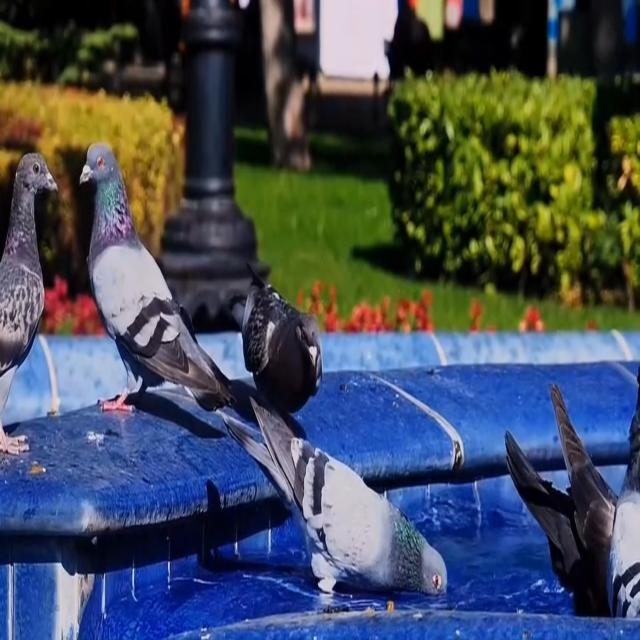bird: (220, 375, 467, 630), (74, 120, 245, 440), (531, 368, 640, 639), (491, 416, 613, 636), (221, 227, 340, 428), (0, 130, 54, 468)
